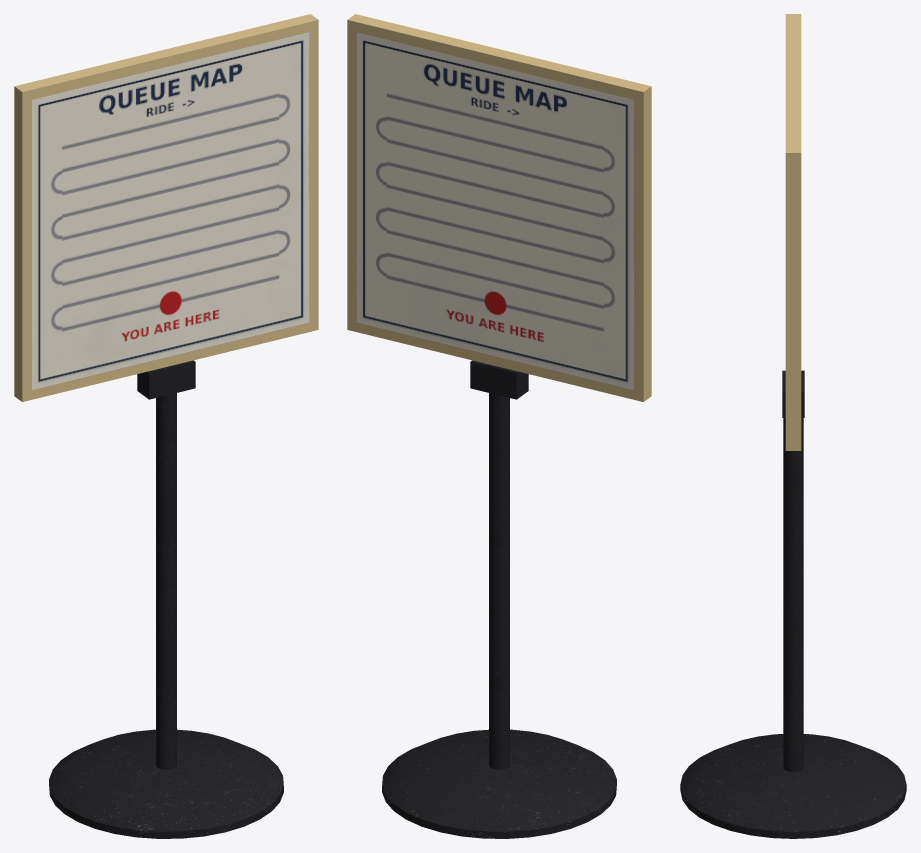
File: SM_QUE_Sign_QueueMap.fbx
3 views of the same model, side by side, from view 1: azimuth 30°, elevation 25°; view 2: azimuth 150°, elevation 25°; view 3: azimuth 270°, elevation 25° (orthographic). The views are drawn at different scales.
Parts seen in each view (by area): view 1: SM_QUE_Sign_QueueMap; view 2: SM_QUE_Sign_QueueMap; view 3: SM_QUE_Sign_QueueMap.
Boxes of the visible parts, left/top/right/bottom form: SM_QUE_Sign_QueueMap: left=14, top=14, right=318, bottom=838; SM_QUE_Sign_QueueMap: left=347, top=14, right=651, bottom=838; SM_QUE_Sign_QueueMap: left=680, top=14, right=906, bottom=838.
Bounding box in the file's own units: 0.64 × 1.52 × 0.44.
